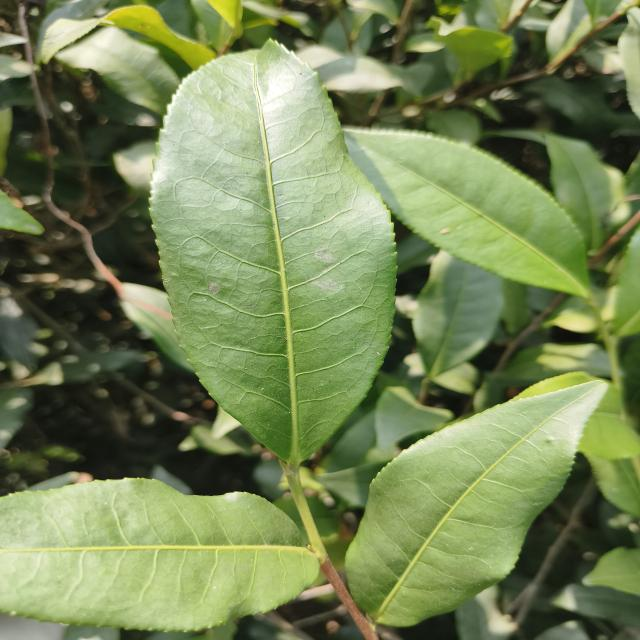Leaf: (150, 41, 396, 463), (346, 381, 604, 626), (0, 479, 319, 631), (344, 127, 589, 295), (413, 250, 503, 384), (40, 5, 215, 69), (56, 27, 179, 116), (544, 133, 610, 251), (120, 283, 194, 372), (496, 342, 610, 388), (296, 45, 401, 92), (375, 387, 453, 449), (578, 382, 640, 459), (441, 27, 512, 75), (583, 547, 640, 595), (513, 372, 596, 400), (426, 109, 482, 146)
